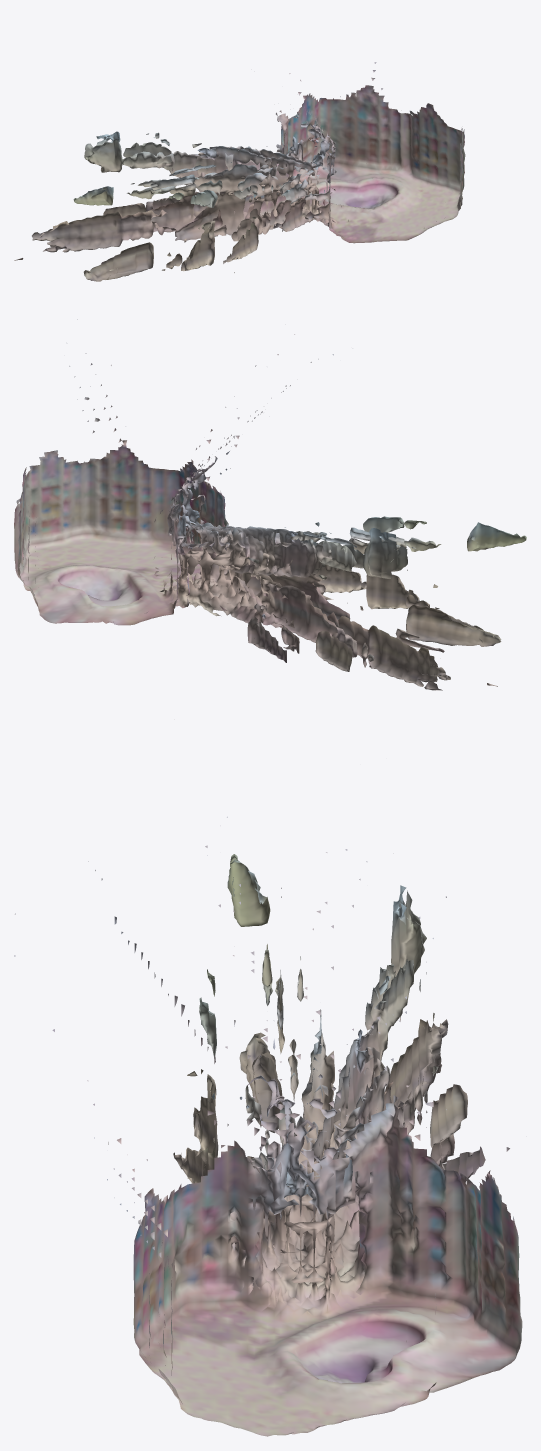
The model's file is heart-pool-1-0_collider.glb.
3 views of the same model, one above another, from view 1: azimuth 30°, elevation 25°; view 2: azimuth 150°, elevation 25°; view 3: azimuth 270°, elevation 25° (orthographic). The views are drawn at different scales.
Visible parts, largest first — view 1: world; view 2: world; view 3: world.
Boxes of the visible parts, x1,y1,x2,y2 form: world: [14, 62, 465, 281]; world: [14, 319, 526, 690]; world: [14, 719, 522, 1436].
Size of the model in its own units: 14.16 by 7.72 by 7.19.
